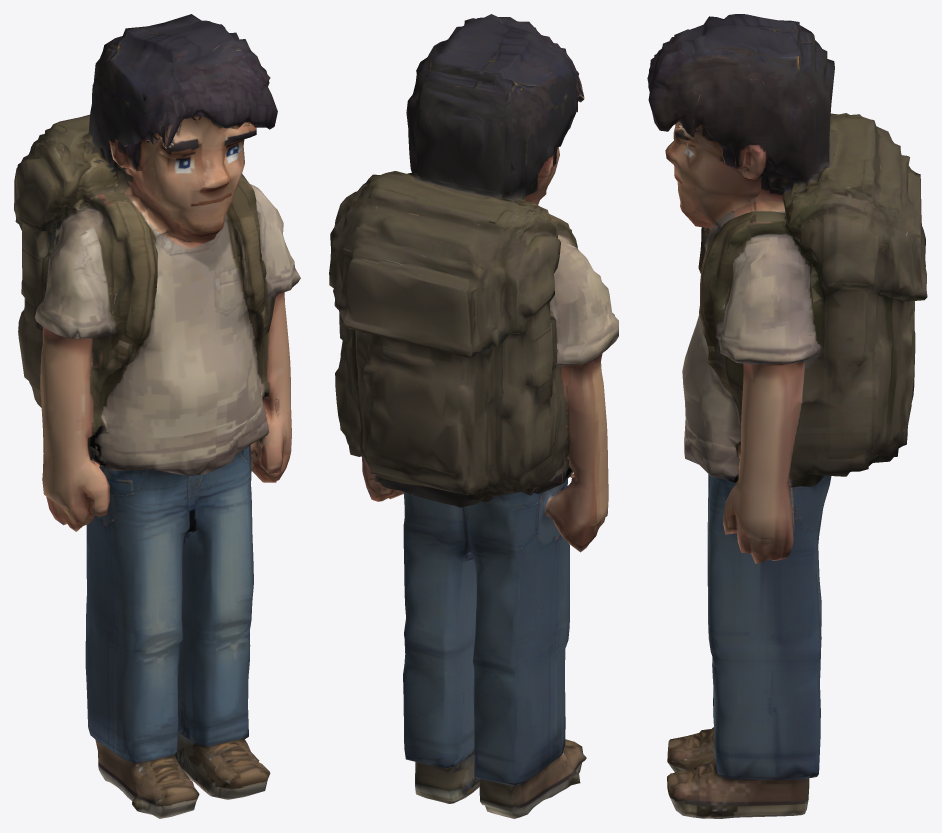
File: drifter.glb
The picture shows the model from 3 angles, left to right: view 1: azimuth 30°, elevation 25°; view 2: azimuth 150°, elevation 25°; view 3: azimuth 270°, elevation 25°; orthographic projection. The views are drawn at different scales.
Bounding box in the file's own units: 0.6779 × 2.01 × 0.665.
Materials: 1 (1 with a texture image).
